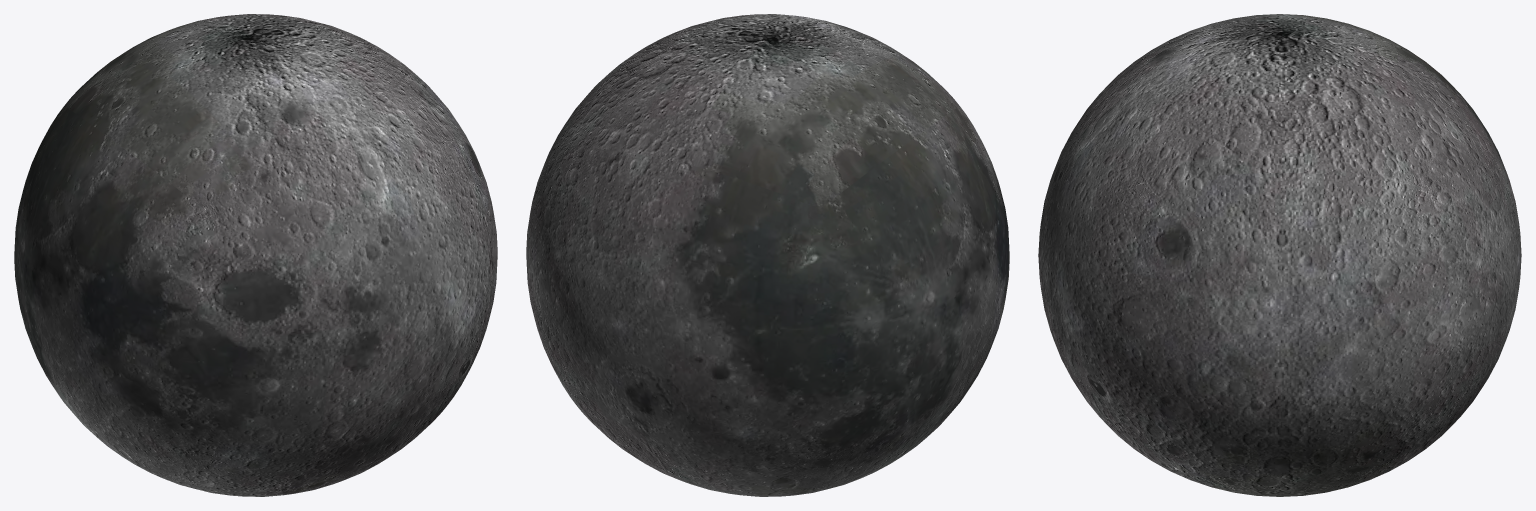
Rendered from Moon_1_3474-transformed.glb.
The picture shows the model from 3 angles, left to right: view 1: azimuth 30°, elevation 25°; view 2: azimuth 150°, elevation 25°; view 3: azimuth 270°, elevation 25°; orthographic projection.
Parts seen in each view (by area): view 1: Cube.008; view 2: Cube.008; view 3: Cube.008.
Boxes of the visible parts, <box> form: Cube.008: <box>14,14,497,496</box>; Cube.008: <box>526,14,1009,496</box>; Cube.008: <box>1038,14,1521,496</box>.
Size of the model in its own units: 1000 by 999 by 1000.
1 material, 1 textured.
